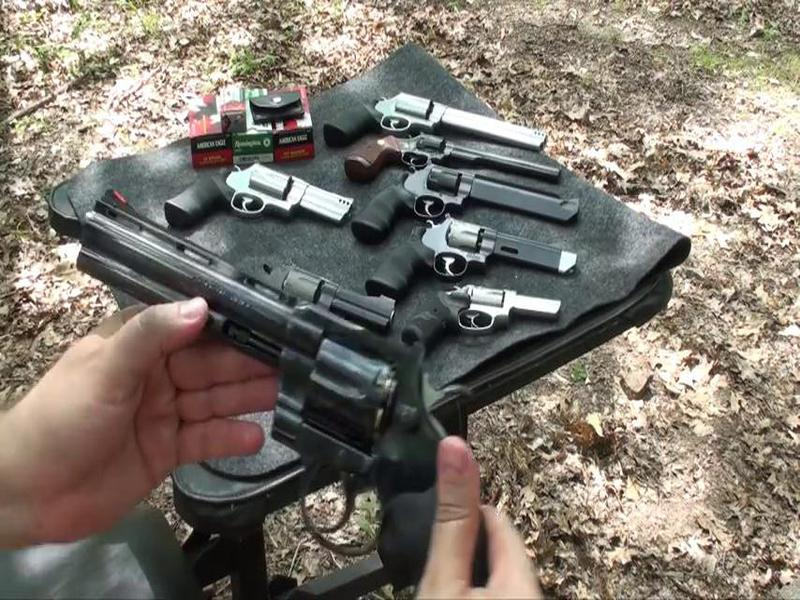Revolver: (77, 193, 455, 568)
